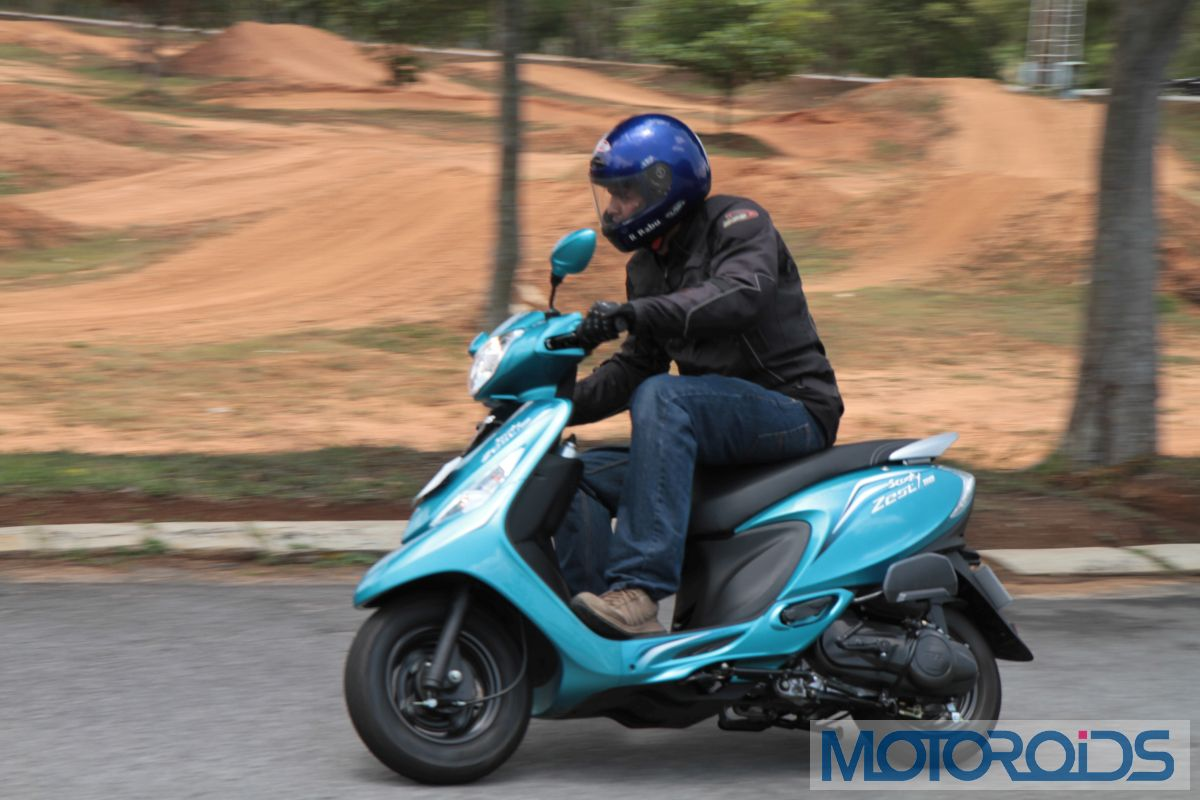helmet: (586, 110, 717, 237)
